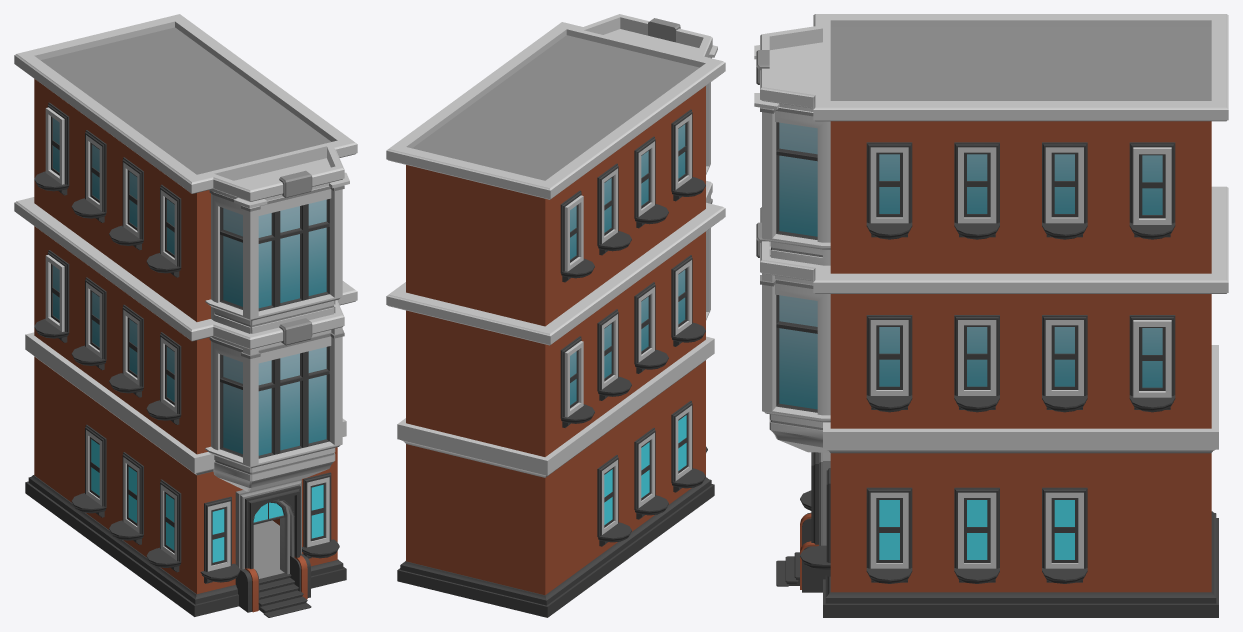
Rendered from SM_Buildings_House_03_V1.fbx.
3 views of the same model, side by side, from view 1: azimuth 30°, elevation 25°; view 2: azimuth 150°, elevation 25°; view 3: azimuth 270°, elevation 25° (orthographic). The views are drawn at different scales.
Parts seen in each view (by area): view 1: SM_Buildings_House_03_V1; view 2: SM_Buildings_House_03_V1; view 3: SM_Buildings_House_03_V1.
Boxes of the visible parts, <box> form: SM_Buildings_House_03_V1: <box>14,14,357,617</box>; SM_Buildings_House_03_V1: <box>386,14,725,617</box>; SM_Buildings_House_03_V1: <box>754,14,1228,617</box>.
Bounding box in the file's own units: 6.6 × 14.98 × 12.45.
